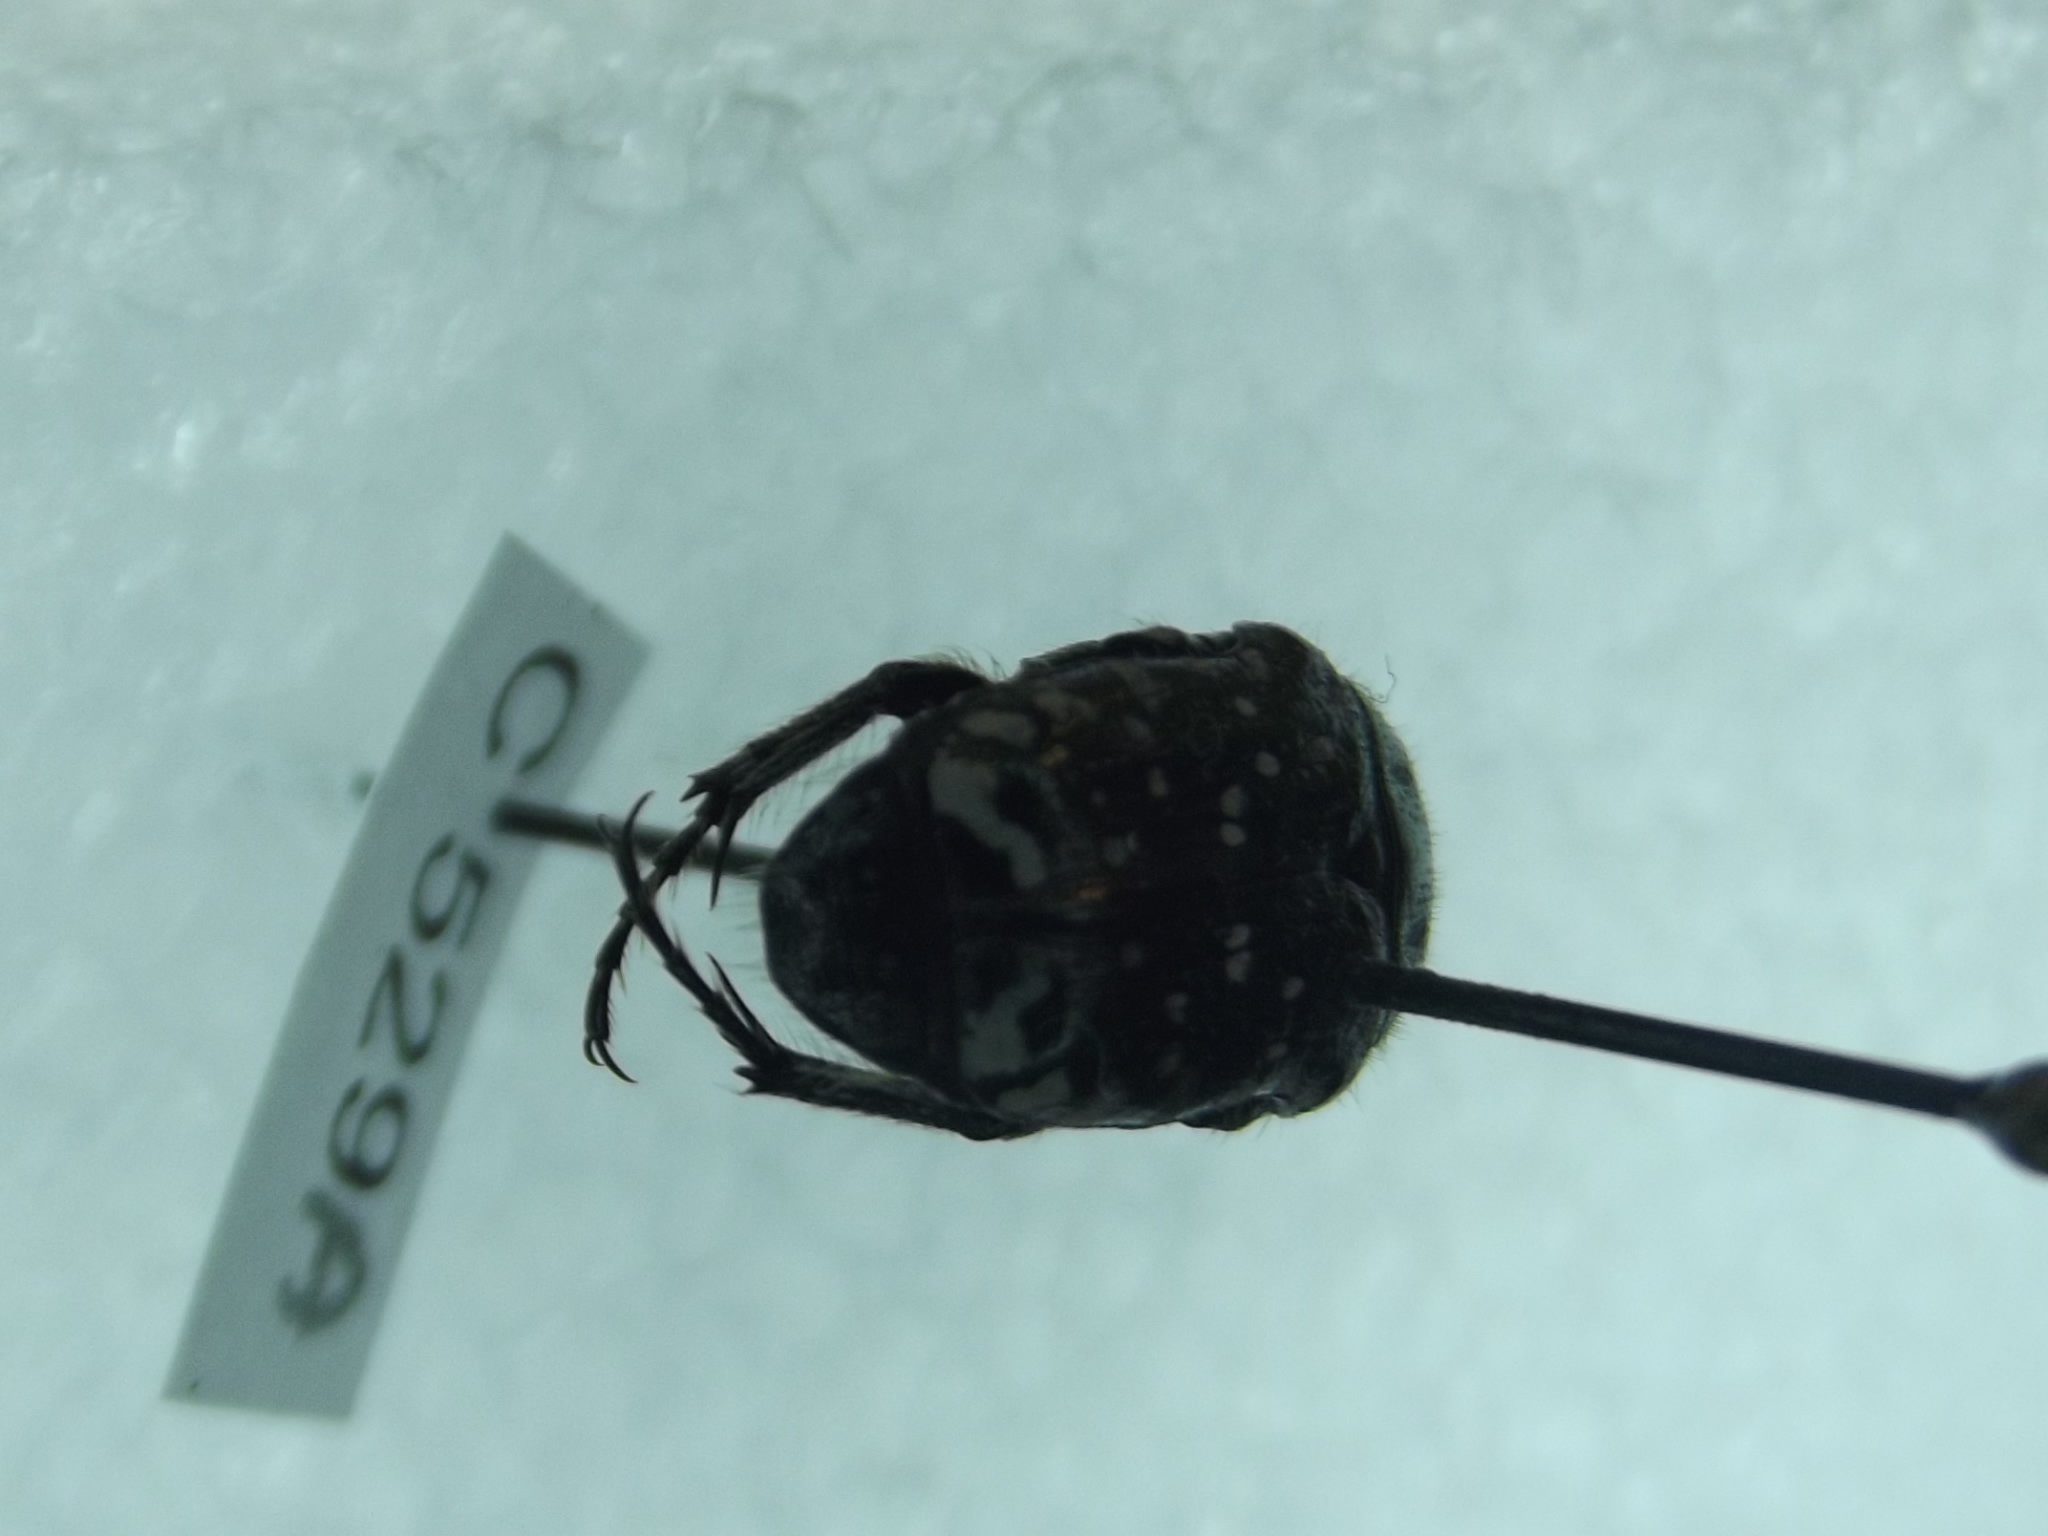Oxythyrea_funesta: (569, 613, 1455, 1175)
